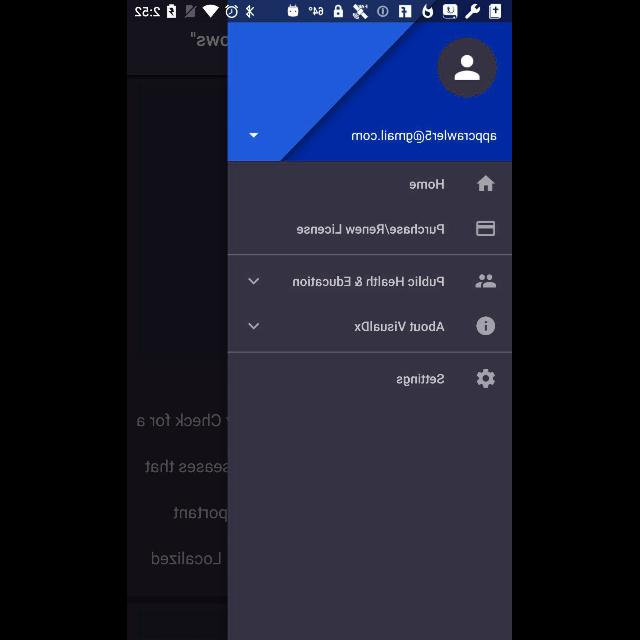icon: (438, 38, 498, 98), (476, 316, 496, 336), (476, 368, 496, 388), (476, 174, 496, 192), (476, 221, 496, 237), (476, 274, 496, 288), (249, 277, 261, 285), (248, 322, 260, 330), (250, 133, 258, 139)
panel: (228, 23, 512, 639)
text: (352, 130, 498, 144), (297, 223, 445, 234), (294, 276, 444, 286), (355, 321, 445, 332), (397, 374, 445, 386), (411, 178, 445, 190)
uppertaskbar: (128, 1, 512, 23)
